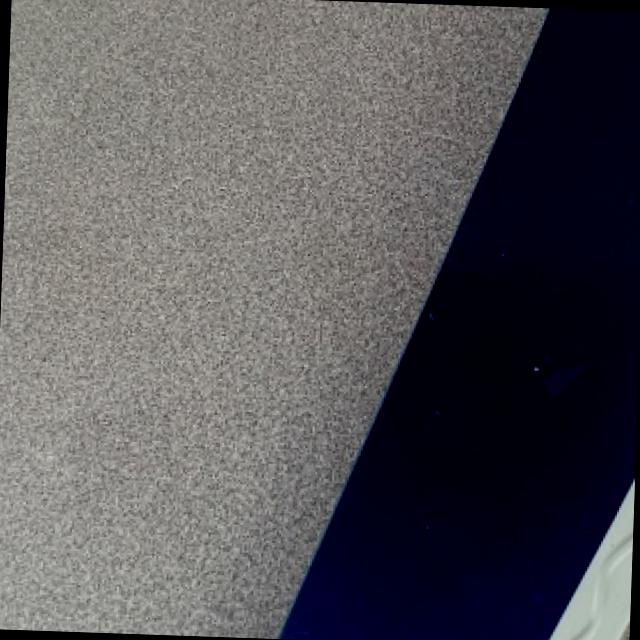healthy: (0, 0, 549, 637), (283, 8, 640, 640)
